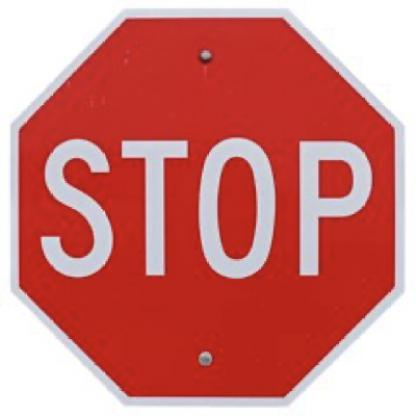stop: (8, 8, 407, 407)
